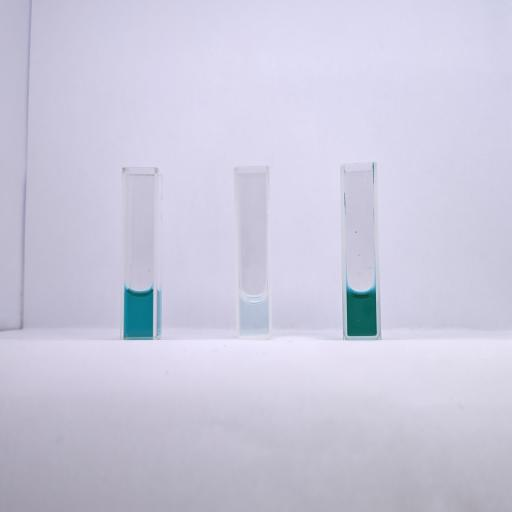cuvette: (337, 159, 384, 341), (232, 162, 273, 340), (120, 164, 160, 340)
liquid: (124, 288, 153, 336), (348, 289, 376, 337), (239, 294, 268, 334)
